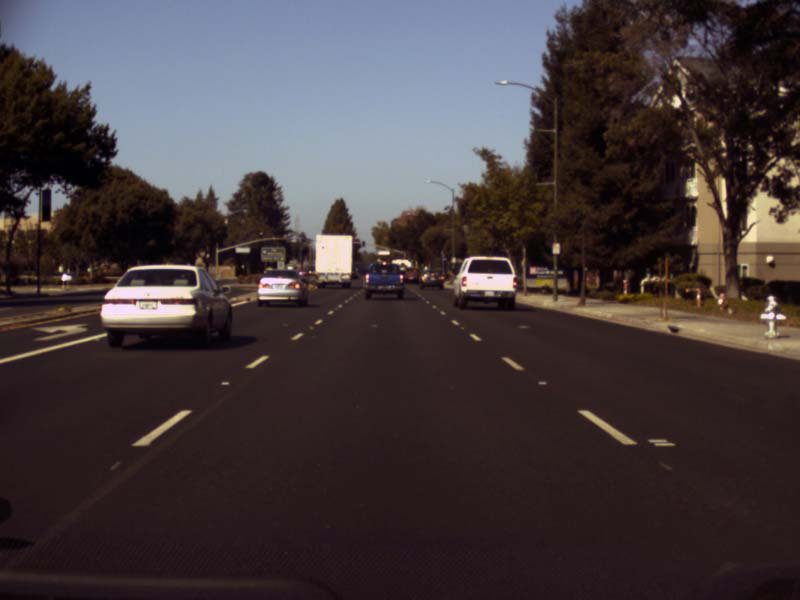Green: (409, 249, 414, 261)
